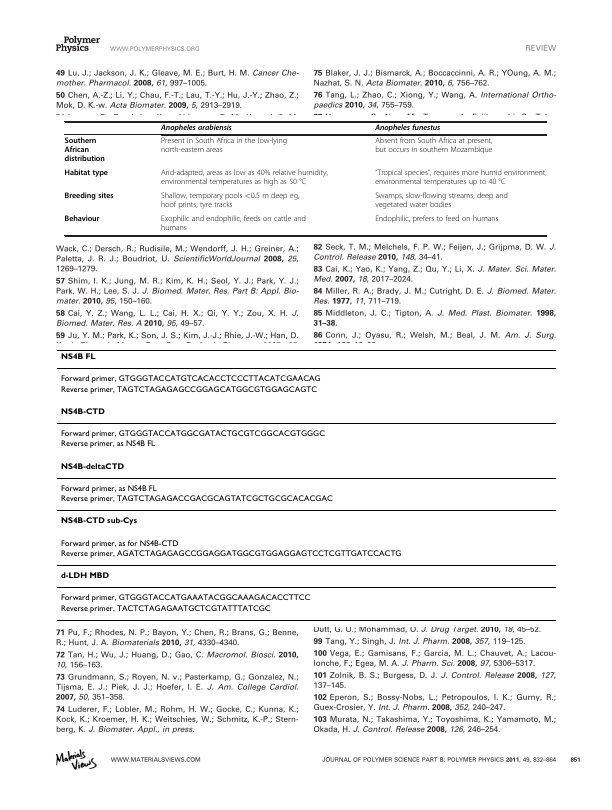borderless: (56, 348, 556, 620), (63, 120, 546, 235)
cell: (59, 549, 402, 559), (374, 169, 547, 188), (160, 169, 329, 188), (160, 215, 307, 234), (59, 494, 333, 504), (59, 429, 326, 439), (160, 192, 300, 211), (59, 385, 318, 395), (374, 192, 509, 211), (160, 137, 288, 156), (59, 375, 321, 384), (59, 594, 311, 603), (374, 137, 493, 156), (59, 604, 271, 614), (374, 215, 499, 225), (63, 137, 106, 165), (59, 539, 179, 549), (59, 484, 157, 494), (59, 440, 156, 449), (59, 517, 138, 526), (59, 462, 125, 472), (160, 124, 233, 133), (374, 124, 441, 133), (63, 192, 115, 202), (63, 169, 109, 179), (59, 407, 105, 417), (59, 572, 109, 581), (63, 215, 100, 225), (59, 353, 96, 362)
